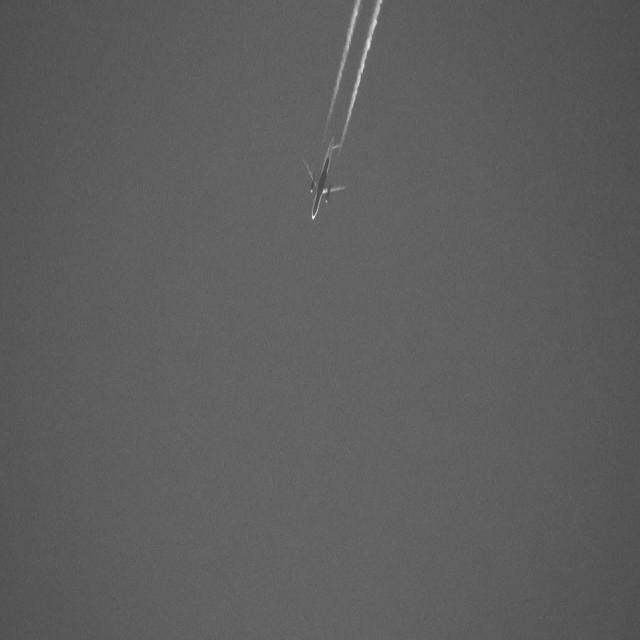aeroplane: (300, 128, 352, 230)
